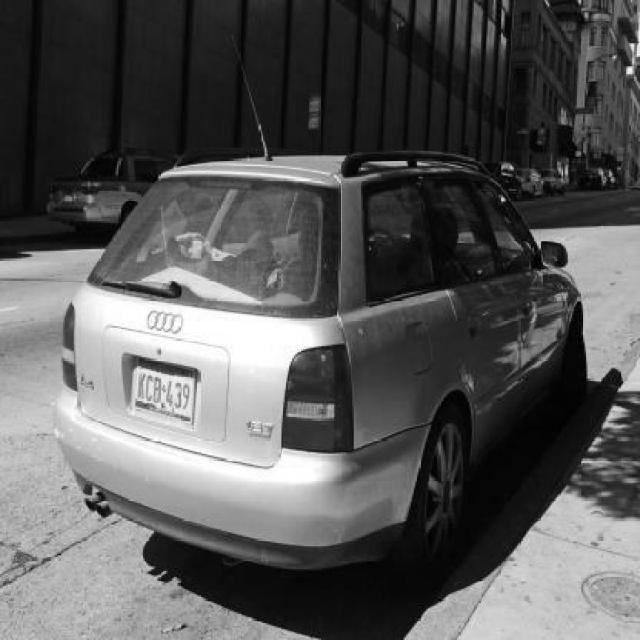car: (57, 150, 591, 584)
license-plate: (130, 360, 198, 423)
